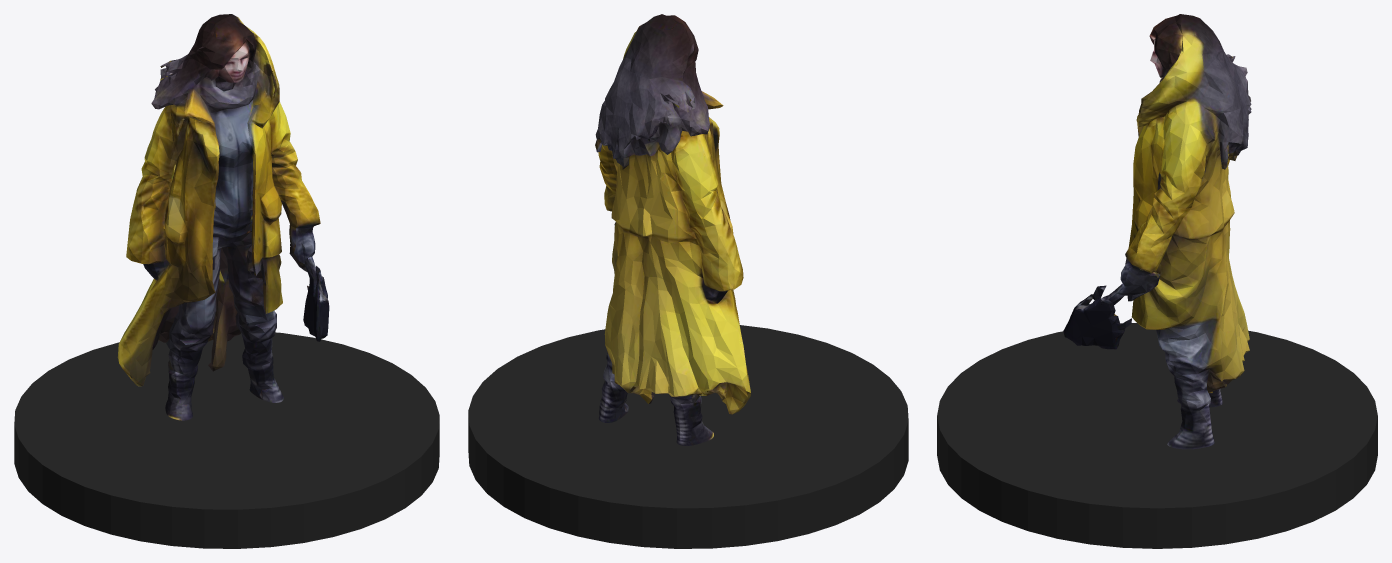
The model's file is carla-thompson.glb.
The picture shows the model from 3 angles, left to right: view 1: azimuth 30°, elevation 25°; view 2: azimuth 150°, elevation 25°; view 3: azimuth 270°, elevation 25°; orthographic projection. The views are drawn at different scales.
Parts seen in each view (by area): view 1: base, figure; view 2: base, figure; view 3: base, figure.
Boxes of the visible parts, x1,y1,x2,y2 form: base: (14,332,439,548); figure: (117,14,329,420); base: (468,325,908,548); figure: (595,14,750,445); base: (937,323,1377,548); figure: (1063,14,1251,449).
Size of the model in its own units: 1.18 by 1.32 by 1.18.
Materials: 2 (1 with a texture image).
